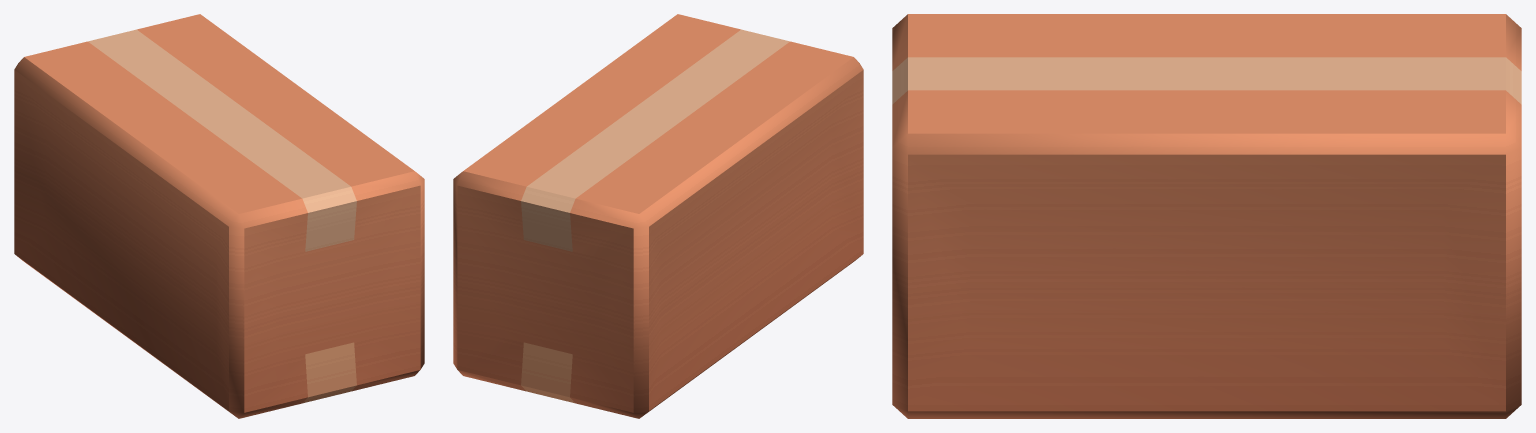
The model's file is box-large.glb.
The picture shows the model from 3 angles, left to right: view 1: azimuth 30°, elevation 25°; view 2: azimuth 150°, elevation 25°; view 3: azimuth 270°, elevation 25°; orthographic projection. The views are drawn at different scales.
Visible parts, largest first — view 1: box-large; view 2: box-large; view 3: box-large.
Part boxes in pixels (box(x1,y1,x2,y2)): box-large: box(14, 14, 424, 418); box-large: box(453, 14, 863, 418); box-large: box(892, 14, 1521, 418).
Bounding box in the file's own units: 0.25 × 0.25 × 0.5.
1 material, 1 textured.
